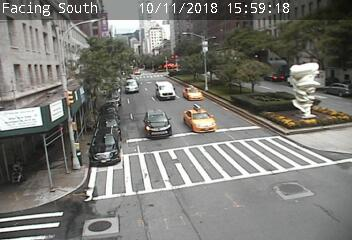car: (183, 109, 216, 133), (145, 110, 171, 138), (156, 81, 176, 100), (183, 87, 203, 101)
